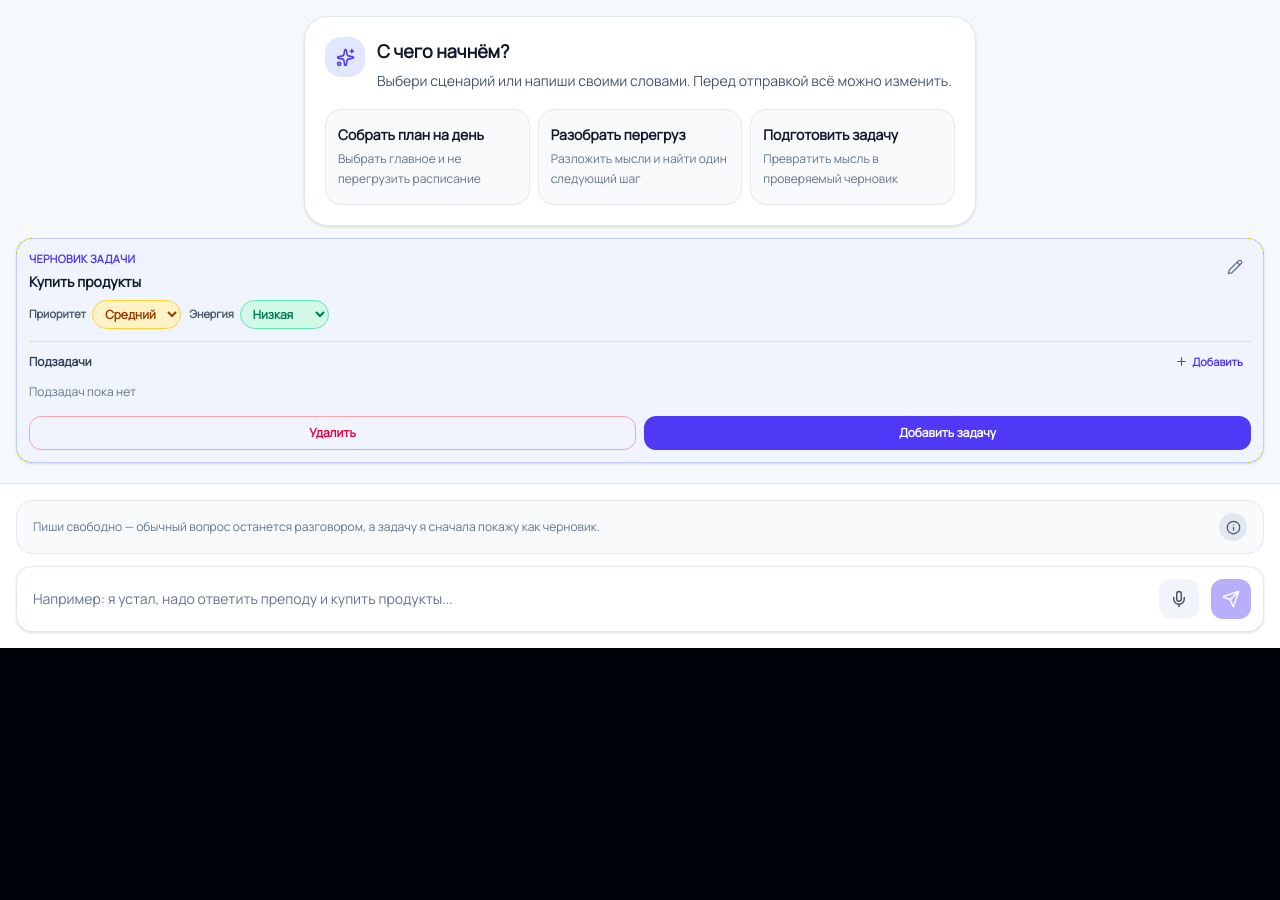
Test: MindHubChat › rejects a draft without creating a task
The image size is (1280, 900).
Click the button "Удалить" at {"x": 332, "y": 433}, box [29, 416, 636, 450]
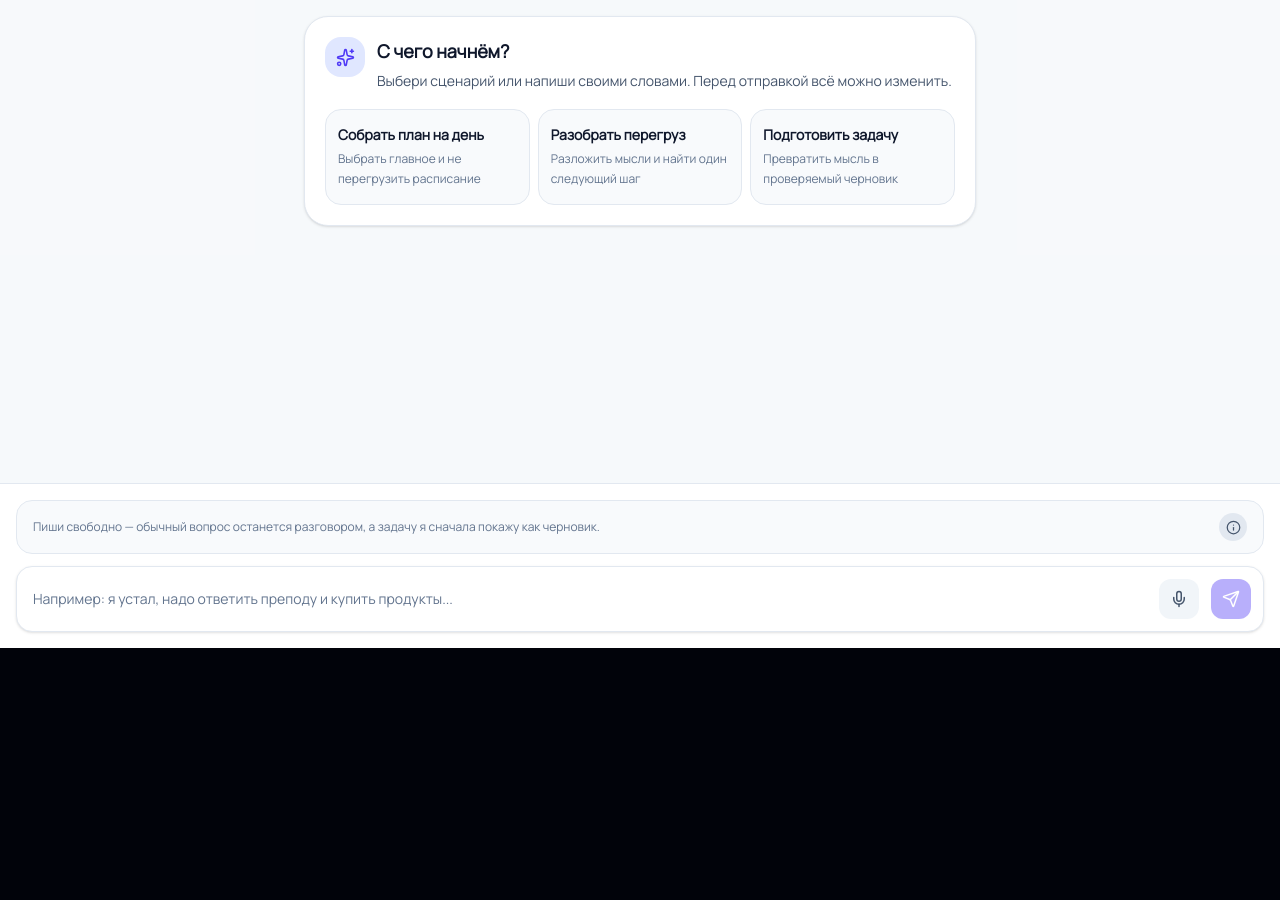
Result: the text "Черновик задачи" is gone
